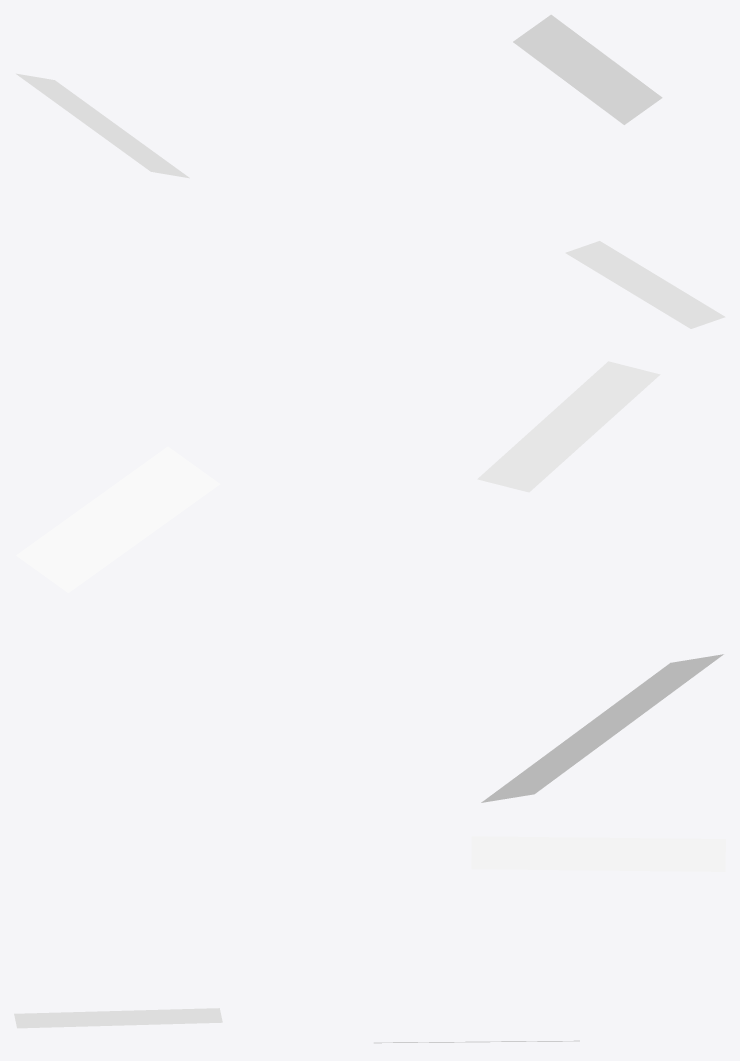
The model's file is Gate_02_Derelict_12_0.glb.
3 renders of one model, top to bottom at view 1: azimuth 30°, elevation 25°; view 2: azimuth 150°, elevation 25°; view 3: azimuth 270°, elevation 25°, orthographic. The views are drawn at different scales.
Parts seen in each view (by area): view 1: gate_02_Derelict_12_LOD0; view 2: gate_02_Derelict_12_LOD0; view 3: gate_02_Derelict_12_LOD0.
Boxes of the visible parts, x1,y1,x2,y2 form: gate_02_Derelict_12_LOD0: (16,14,725,328); gate_02_Derelict_12_LOD0: (16,361,723,802); gate_02_Derelict_12_LOD0: (14,836,725,1043).
Size of what is drawn, in the model's own units: 14.4 by 1.66 by 20.76.
Materials: 1 (1 with a texture image).
